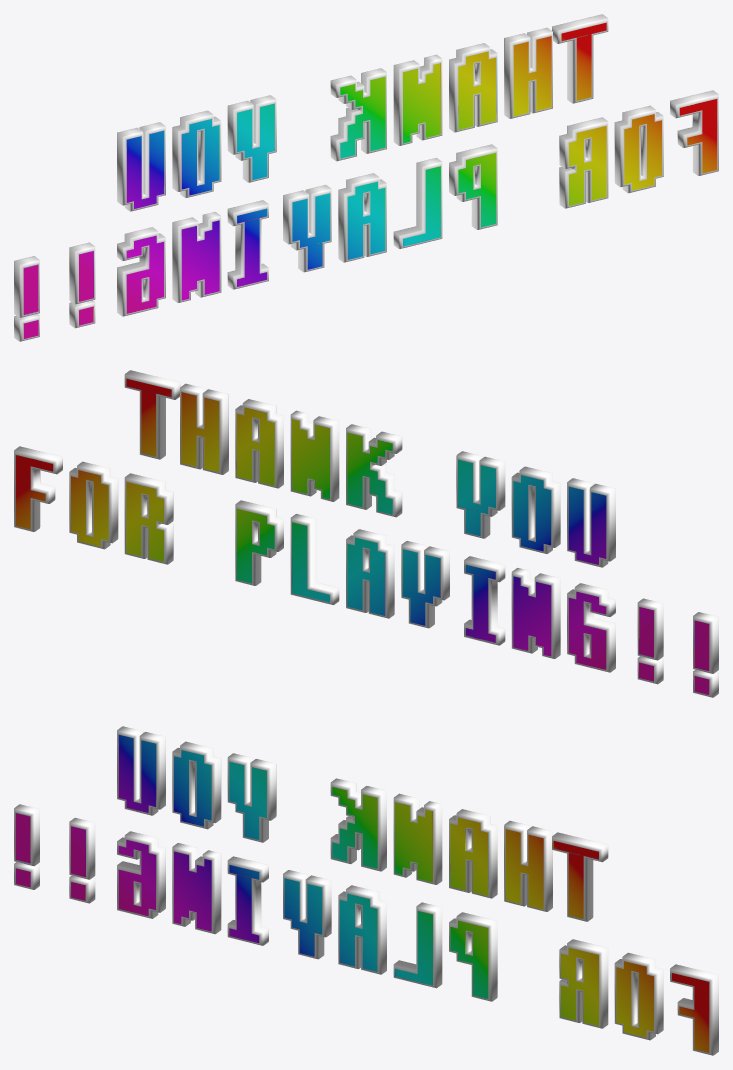
File: THANK_YOU_FOR_PLAYING.fbx
3 views of the same model, one above another, from view 1: azimuth 30°, elevation 25°; view 2: azimuth 150°, elevation 25°; view 3: azimuth 330°, elevation 25° (orthographic).
Parts seen in each view (by area): view 1: Text.002, Text.003; view 2: Text.002, Text.003; view 3: Text.002, Text.003.
Part boxes in pixels (x1,y1,x2,y2): Text.002: [23, 22, 717, 338]; Text.003: [14, 14, 718, 341]; Text.002: [15, 378, 709, 694]; Text.003: [14, 370, 718, 697]; Text.002: [15, 735, 709, 1052]; Text.003: [14, 726, 718, 1055].
Bounding box in the file's own units: 14193 × 3492 × 280.
